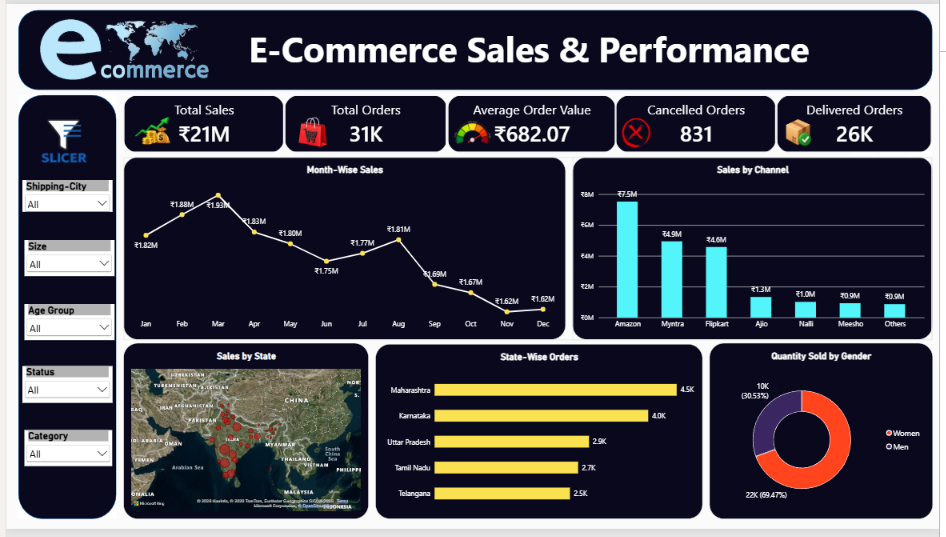

Layout of this report page (visuals, bound fields, positions):
{"tool":"powerbi","page":{"name":"DASHBOARD","canvas":[1920,1080],"ordinal":0},"visuals":[{"type":"cardVisual","fields":{"Data":["data.Total Sales"]},"box":[240.8,187.3,331.2,119.4],"z":0,"group":"g3"},{"type":"group","id":"g1","title":"Group 1","box":[240.8,314.9,1665.2,376.7],"z":0},{"type":"group","id":"g2","title":"Group 2","box":[240.8,697.8,1665.2,362.3],"z":1000},{"type":"group","id":"g3","title":"Group 3","box":[240.8,187.3,1665.2,119.4],"z":2000},{"type":"shape","box":[24.7,12.3,1881.3,164.7],"z":3000},{"type":"cardVisual","fields":{"Data":["data.Total Orders"]},"box":[572,187.3,334.8,119.4],"z":3000,"group":"g3"},{"type":"textbox","box":[255.2,43.2,1640.5,102.9],"z":4000},{"type":"cardVisual","fields":{"Data":["data.Cancelled Orders"]},"box":[1254.4,187.3,331.2,119.4],"z":4000,"group":"g3"},{"type":"shape","box":[24.7,187.3,201.7,872.7],"z":5000},{"type":"cardVisual","fields":{"Data":["data.Delivered Orders"]},"box":[1585.6,187.3,320.4,119.4],"z":5000,"group":"g3"},{"type":"lineChart","title":"Month-Wise Sales","fields":{"Category":["data.Month Name"],"Y":["data.Total Sales"]},"box":[240.8,314.9,910.6,376.2],"z":5000,"group":"g1"},{"type":"donutChart","title":"Quantity Sold by Gender","fields":{"Category":["data.Gender"],"Y":["data.Quantity Sold"]},"box":[1446.2,697.8,459.7,362.3],"z":5000,"group":"g2"},{"type":"cardVisual","fields":{"Data":["data.Average Order Value"]},"box":[906.9,187.3,347.5,119.4],"z":6000,"group":"g3"},{"type":"image","box":[37,216.1,160.5,127.6],"z":6000},{"type":"barChart","title":"State-Wise Orders","fields":{"Category":["data.Shipping-State"],"Y":["data.Total Orders"]},"box":[760.3,699.7,673.3,360.3],"z":6000,"group":"g2"},{"type":"columnChart","title":"Sales by Channel","fields":{"Category":["data.Channel "],"Y":["data.Total Sales"]},"box":[1164.3,315.4,741.7,376.2],"z":7000,"group":"g1"},{"type":"slicer","fields":{"Values":["data.Age Group"]},"box":[37,617.5,185.2,74.1],"z":7000},{"type":"map","title":"Sales by State","fields":{"Category":["data.Shipping-State"],"Size":["data.Total Sales"]},"box":[240.8,697.8,505,362.3],"z":7000,"group":"g2"},{"type":"slicer","fields":{"Values":["data.Size"]},"box":[37,485.8,185.2,74.1],"z":8000},{"type":"slicer","fields":{"Values":["data.Shipping-City"]},"box":[32.9,362.3,185.2,65.9],"z":9000},{"type":"slicer","fields":{"Values":["data.Status"]},"box":[32.9,745.1,185.2,76.2],"z":10000},{"type":"slicer","fields":{"Values":["data.Category"]},"box":[37,876.8,181.1,74.1],"z":11000},{"type":"image","box":[586.6,232.6,86.4,63.8],"z":12000},{"type":"image","box":[257.3,216.1,88.5,90.6],"z":13000},{"type":"image","box":[1566.4,232.6,129.7,63.8],"z":14000},{"type":"image","box":[1253.5,232.6,84.4,63.8],"z":15000},{"type":"image","box":[918,232.6,82.3,63.8],"z":16000},{"type":"image","box":[0,30.9,485.8,125.6],"z":17000}]}

Visuals, with their boxes in screenshot pixels (x1, y1, x2, y2), scaled from the page's 1920x1080 canvas onto the 946x537 screenshot:
cardVisual - data.Total Sales: <bbox>119, 93, 282, 152</bbox>
"Group 1" group: <bbox>119, 157, 939, 344</bbox>
"Group 2" group: <bbox>119, 347, 939, 527</bbox>
"Group 3" group: <bbox>119, 93, 939, 152</bbox>
shape: <bbox>12, 6, 939, 88</bbox>
cardVisual - data.Total Orders: <bbox>282, 93, 447, 152</bbox>
textbox: <bbox>126, 21, 934, 73</bbox>
cardVisual - data.Cancelled Orders: <bbox>618, 93, 781, 152</bbox>
shape: <bbox>12, 93, 112, 527</bbox>
cardVisual - data.Delivered Orders: <bbox>781, 93, 939, 152</bbox>
"Month-Wise Sales" lineChart: <bbox>119, 157, 567, 344</bbox>
"Quantity Sold by Gender" donutChart: <bbox>713, 347, 939, 527</bbox>
cardVisual - data.Average Order Value: <bbox>447, 93, 618, 152</bbox>
image: <bbox>18, 107, 97, 171</bbox>
"State-Wise Orders" barChart: <bbox>375, 348, 706, 527</bbox>
"Sales by Channel" columnChart: <bbox>574, 157, 939, 344</bbox>
slicer - data.Age Group: <bbox>18, 307, 109, 344</bbox>
"Sales by State" map: <bbox>119, 347, 367, 527</bbox>
slicer - data.Size: <bbox>18, 242, 109, 278</bbox>
slicer - data.Shipping-City: <bbox>16, 180, 107, 213</bbox>
slicer - data.Status: <bbox>16, 370, 107, 408</bbox>
slicer - data.Category: <bbox>18, 436, 107, 473</bbox>
image: <bbox>289, 116, 332, 147</bbox>
image: <bbox>127, 107, 170, 152</bbox>
image: <bbox>772, 116, 836, 147</bbox>
image: <bbox>618, 116, 659, 147</bbox>
image: <bbox>452, 116, 493, 147</bbox>
image: <bbox>0, 15, 239, 78</bbox>
